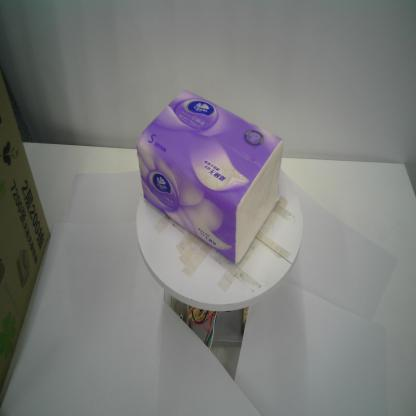Tissue: (134, 86, 284, 266)
